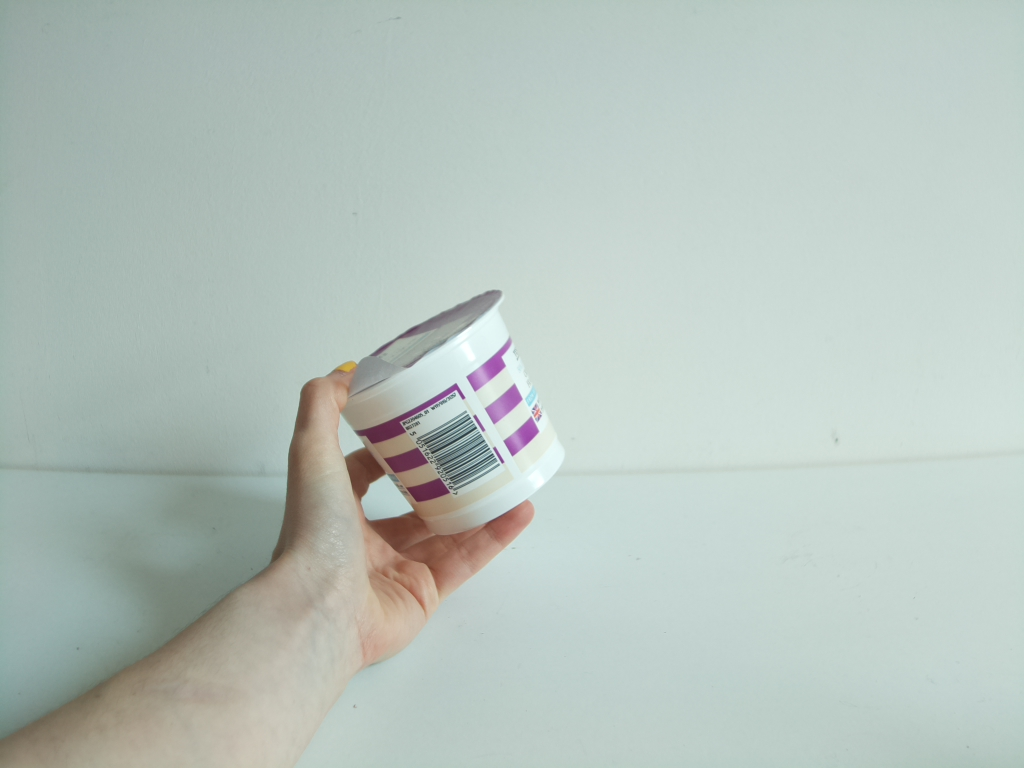cream: (319, 284, 570, 545)
